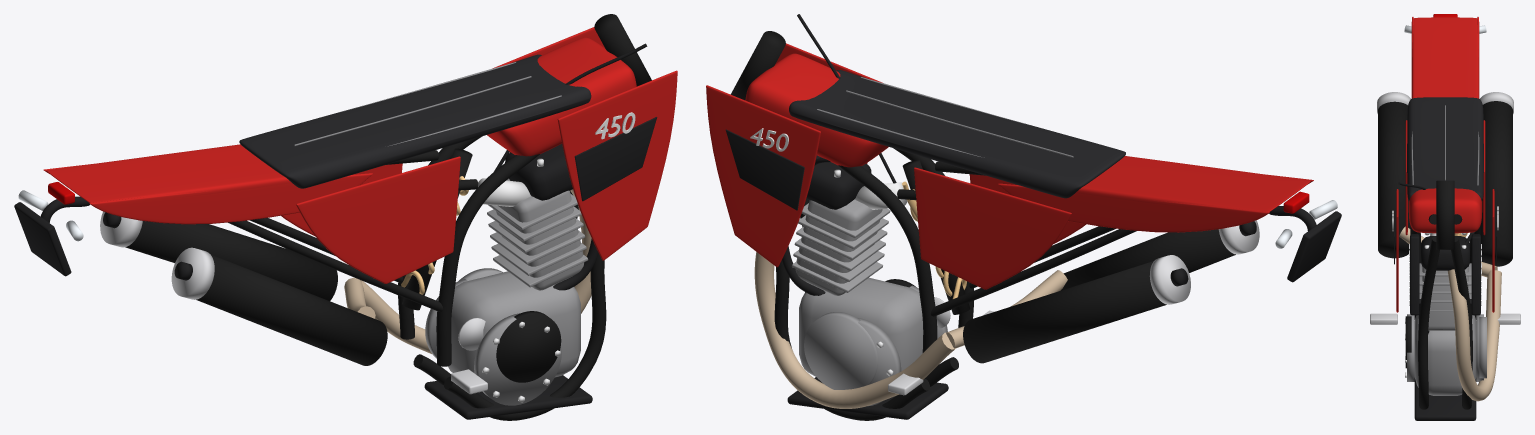
The model's file is SM450_Telaio.glb.
3 views of the same model, side by side, from view 1: azimuth 30°, elevation 25°; view 2: azimuth 150°, elevation 25°; view 3: azimuth 270°, elevation 25° (orthographic). The views are drawn at different scales.
Visible parts, largest first — view 1: SM450_Telaio; view 2: SM450_Telaio; view 3: SM450_Telaio.
Boxes of the visible parts, left/top/right/bottom form: SM450_Telaio: left=14, top=14, right=677, bottom=420; SM450_Telaio: left=706, top=14, right=1341, bottom=420; SM450_Telaio: left=1370, top=14, right=1520, bottom=420.
Size of the model in its own units: 1.66 by 0.9312 by 0.49.
